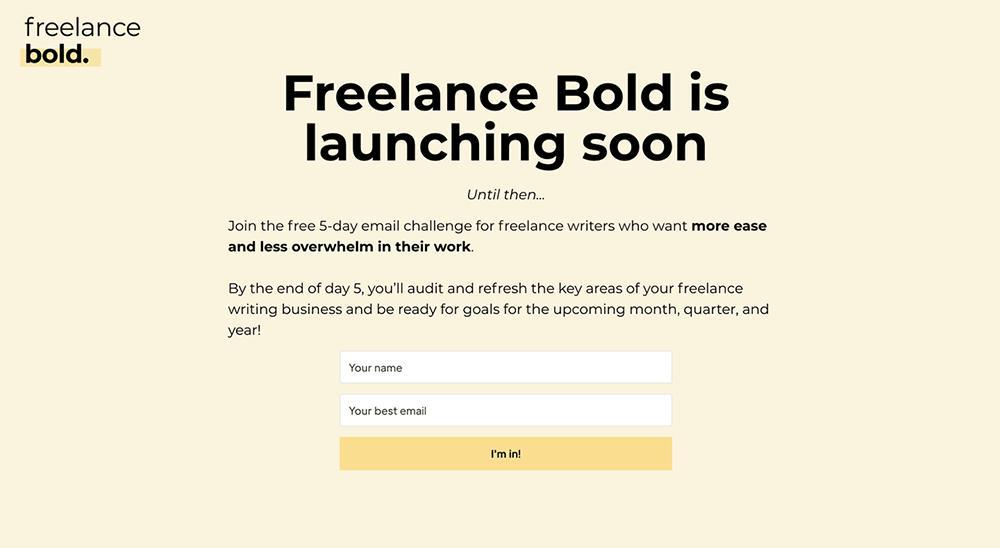button: (342, 434, 673, 473)
input: (339, 393, 673, 428), (344, 350, 671, 382)
